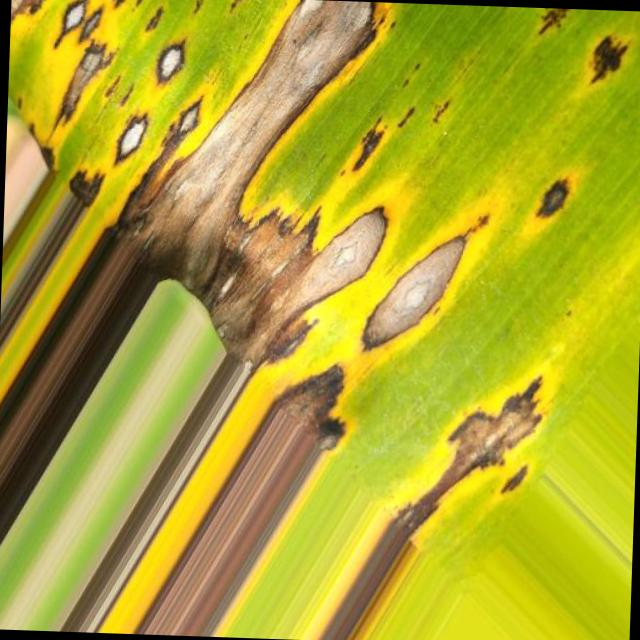Banana_Yellow_Sigatoka: (0, 0, 489, 444)
